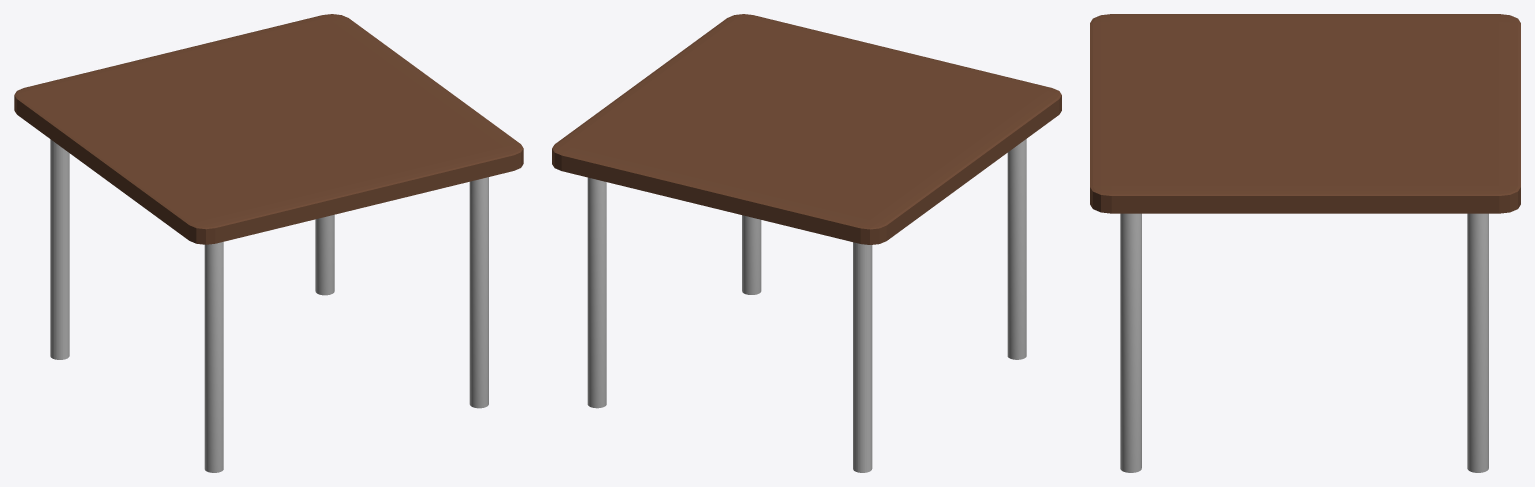
File: CuttingTable.fbx
3 renders of one model, left to right at view 1: azimuth 30°, elevation 25°; view 2: azimuth 150°, elevation 25°; view 3: azimuth 270°, elevation 25°, orthographic. The views are drawn at different scales.
Parts seen in each view (by area): view 1: Cube, Cylinder.003, Cylinder.004, Cylinder, Cylinder.002; view 2: Cube, Cylinder, Cylinder.002, Cylinder.003, Cylinder.004; view 3: Cube, Cylinder.004, Cylinder.002.
Part boxes in pixels (<box>): Cube: <box>14,14,523,244</box>; Cylinder.003: <box>204,242,223,472</box>; Cylinder.004: <box>469,177,488,408</box>; Cylinder: <box>50,139,69,359</box>; Cylinder.002: <box>315,214,334,295</box>; Cube: <box>552,14,1061,244</box>; Cylinder: <box>853,242,872,472</box>; Cylinder.002: <box>587,177,606,408</box>; Cylinder.003: <box>1007,139,1026,359</box>; Cylinder.004: <box>742,215,761,294</box>; Cube: <box>1090,14,1520,213</box>; Cylinder.004: <box>1120,213,1141,472</box>; Cylinder.002: <box>1467,213,1488,472</box>.
Bounding box in the file's own units: 200 × 149 × 200.
